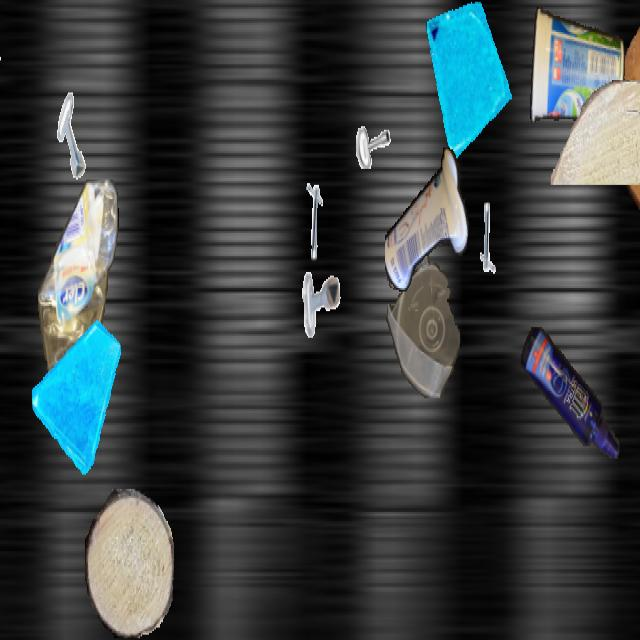glass: (425, 2, 517, 165), (32, 314, 122, 474)
metal: (293, 180, 347, 276), (344, 76, 396, 169), (49, 90, 99, 180), (457, 188, 507, 278), (300, 263, 342, 338), (0, 2, 5, 112)
plastic: (38, 180, 120, 439), (521, 327, 619, 459), (385, 144, 469, 297), (528, 2, 624, 126), (386, 240, 460, 396)
wood: (85, 489, 173, 638), (550, 80, 640, 183), (615, 2, 640, 229)
